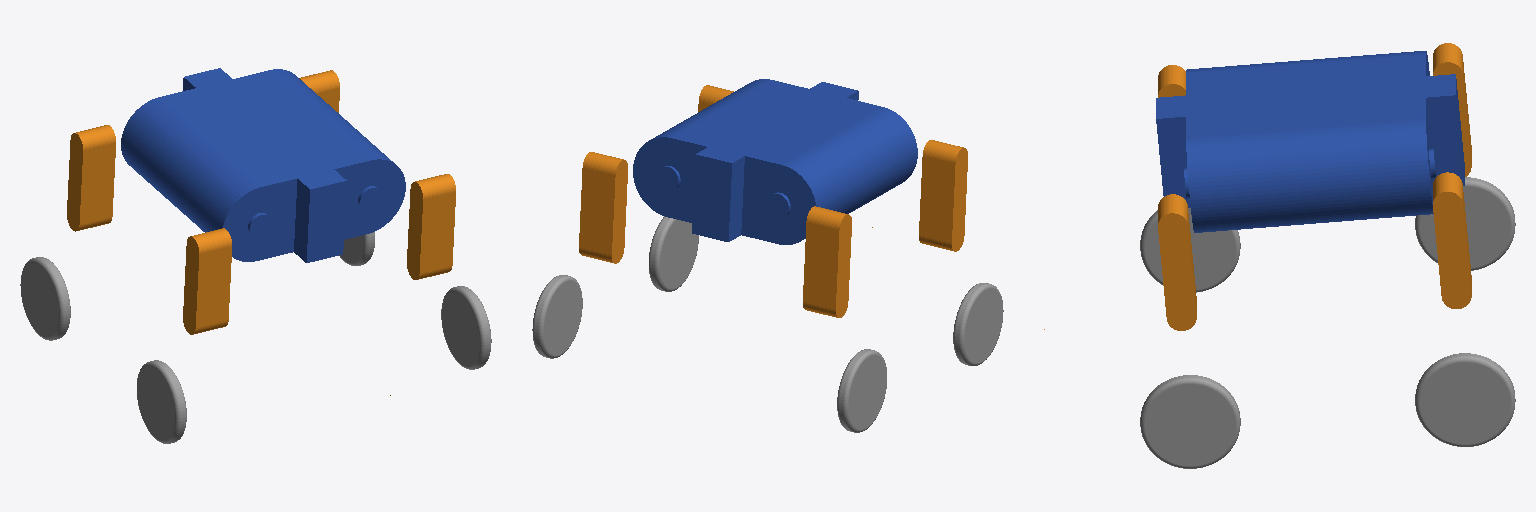
--- Render facts (derived) ---
The picture shows the robot from 3 angles, left to right: view 1: azimuth 30°, elevation 25°; view 2: azimuth 150°, elevation 25°; view 3: azimuth 270°, elevation 25°; orthographic projection.
Model wheely with 18 links and 17 joints (16 revolute, 1 fixed), rooted at base, posed every joint at zero.
Visible links, largest first — view 1: trunk, leg_upper_sim_4, leg_upper_sim_2, leg_upper_sim, wheel_sim_2, wheel_sim, wheel_sim_4, leg_upper_sim_3, wheel_sim_3; view 2: trunk, leg_upper_sim_4, leg_upper_sim_3, leg_upper_sim, wheel_sim_3, wheel_sim_4, wheel_sim, wheel_sim_2; view 3: trunk, wheel_sim_2, wheel_sim_3, wheel_sim_4, leg_upper_sim_2, leg_upper_sim_3, wheel_sim, leg_upper_sim_4, leg_upper_sim.
Link boxes in pixels (x1,y1,x2,y2): trunk: [121, 68, 405, 262]; leg_upper_sim_4: [67, 125, 115, 231]; leg_upper_sim_2: [407, 174, 455, 279]; leg_upper_sim: [183, 228, 231, 334]; wheel_sim_2: [441, 286, 491, 369]; wheel_sim: [137, 360, 186, 443]; wheel_sim_4: [20, 257, 70, 340]; leg_upper_sim_3: [299, 70, 339, 112]; wheel_sim_3: [339, 232, 374, 265]; trunk: [633, 79, 917, 244]; leg_upper_sim_4: [803, 206, 851, 317]; leg_upper_sim_3: [579, 152, 627, 263]; leg_upper_sim: [919, 140, 967, 251]; wheel_sim_3: [532, 275, 582, 358]; wheel_sim_4: [837, 349, 886, 432]; wheel_sim: [953, 283, 1003, 365]; wheel_sim_2: [649, 216, 698, 291]; trunk: [1156, 51, 1464, 232]; wheel_sim_2: [1140, 375, 1240, 468]; wheel_sim_3: [1415, 353, 1515, 446]; wheel_sim_4: [1415, 177, 1515, 270]; leg_upper_sim_2: [1158, 194, 1196, 330]; leg_upper_sim_3: [1433, 172, 1471, 308]; wheel_sim: [1140, 208, 1240, 292]; leg_upper_sim_4: [1433, 43, 1471, 176]; leg_upper_sim: [1158, 65, 1185, 97].
Size in the robot's own frame: 0.43 by 0.4694 by 0.3241 metres.
9 mesh visuals loaded from 5 distinct referenced files (3 binary STL); not drawn: 8 (reference not matched to a file when rendering).

robot.urdf — wheely:
<?xml version="1.0" encoding="utf-8"?>
<robot name="wheely">
    <link name="base">
        <visual>
            <origin rpy="0 0 0" xyz="0 0 0" />
            <geometry>
                <box size="0.001 0.001 0.001" />
            </geometry>
        </visual>
    </link>
    <joint name="floating_base" type="fixed">
        <origin rpy="0 0 0" xyz="0 0 0" />
        <parent link="base" />
        <child link="trunk" />
    </joint>
    <link name="trunk">
        <visual>
            <origin xyz="-0.0208706 0.268832 0.147105" rpy="0.0872665 -1.27202e-15 -1.44076e-15" />
            <geometry>
                <mesh filename="../meshes/V3.5/main_body_sim.stl" />
            </geometry>
            <material name="main_body_sim_material">
                <color rgba="0.231373 0.380392 0.705882 1.0" />
            </material>
        </visual>
        <collision>
            <origin xyz="-0.0208706 0.268832 0.147105" rpy="0.0872665 -1.27202e-15 -1.44076e-15" />
            <geometry>
                <mesh filename="../meshes/V3.5/main_body_sim.stl" />
            </geometry>
            <material name="main_body_sim_material">
                <color rgba="0.231373 0.380392 0.705882 1.0" />
            </material>
        </collision>
        <inertial>
            <origin xyz="-0.0208706 0.264475 0.196915" rpy="0 0 0" />
            <mass value="6.10065" />
            <inertia ixx="0.0383547" ixy="1.34683e-17" ixz="2.60161e-17" iyy="0.0308366"
                iyz="0.00252105" izz="0.0594318" />
        </inertial>
    </link>

    <link name="hip_joint_sim">
        <visual>
            <origin xyz="0.0322156 0.0285551 -2.77556e-17" rpy="1.5708 -9.43355e-32 -1.87632e-32" />
            <geometry>
                <mesh filename="../meshes/V3.5/hip_joint_sim.stl" />
            </geometry>
            <material name="hip_joint_sim_material">
                <color rgba="0.866667 0.321569 0.156863 1.0" />
            </material>
        </visual>
        <collision>
            <origin xyz="0.0322156 0.0285551 -2.77556e-17" rpy="1.5708 -9.43355e-32 -1.87632e-32" />
            <geometry>
                <mesh filename="../meshes/V3.5/hip_joint_sim.stl" />
            </geometry>
            <material name="hip_joint_sim_material">
                <color rgba="0.866667 0.321569 0.156863 1.0" />
            </material>
        </collision>
        <inertial>
            <origin xyz="0.0215256 -2.08167e-17 -0.0125" rpy="0 0 0" />
            <mass value="0.0526902" />
            <inertia ixx="6.52176e-06" ixy="3.01327e-36" ixz="4.22457e-37" iyy="2.26097e-05"
                iyz="-9.35962e-23" izz="2.36429e-05" />
        </inertial>
    </link>

    <link name="leg_upper_sim">
        <visual>
            <origin xyz="0 -2.77556e-17 -0.045" rpy="-1.5708 -1.5708 0" />
            <geometry>
                <mesh filename="../meshes/V3.5/leg_upper_sim.stl" />
            </geometry>
            <material name="leg_upper_sim_material">
                <color rgba="0.909804 0.572549 0.164706 1.0" />
            </material>
        </visual>
        <collision>
            <origin xyz="0 -2.77556e-17 -0.045" rpy="-1.5708 -1.5708 0" />
            <geometry>
                <mesh filename="../meshes/V3.5/leg_upper_sim.stl" />
            </geometry>
            <material name="leg_upper_sim_material">
                <color rgba="0.909804 0.572549 0.164706 1.0" />
            </material>
        </collision>
        <inertial>
            <origin xyz="4.31094e-18 -0.05 -0.0225" rpy="0 0 0" />
            <mass value="0.175483" />
            <inertia ixx="4.21465e-05" ixy="-4.02785e-37" ixz="-2.46405e-36" iyy="0.000237726"
                iyz="6.87093e-21" izz="0.000254805" />
        </inertial>
    </link>

    <link name="leg_lower_sim">
        <visual>
            <origin xyz="0 1.38778e-17 -0.025" rpy="-1.5708 -1.5708 0" />
            <geometry>
                <mesh filename="../meshes/V3.5/leg_lower_sim.stl" />
            </geometry>
            <material name="leg_lower_sim_material">
                <color rgba="1 0.756863 0.054902 1.0" />
            </material>
        </visual>
        <collision>
            <origin xyz="0 1.38778e-17 -0.025" rpy="-1.5708 -1.5708 0" />
            <geometry>
                <mesh filename="../meshes/V3.5/leg_lower_sim.stl" />
            </geometry>
            <material name="leg_lower_sim_material">
                <color rgba="1 0.756863 0.054902 1.0" />
            </material>
        </collision>
        <inertial>
            <origin xyz="4.19516e-18 -0.0611369 -0.0125" rpy="0 0 0" />
            <mass value="0.144211" />
            <inertia ixx="2.31972e-05" ixy="-8.02744e-36" ixz="-2.4292e-36" iyy="0.000241043"
                iyz="4.50043e-21" izz="0.000232868" />
        </inertial>
    </link>

    <link name="wheel_sim">
        <visual>
            <origin xyz="-0.0870872 -0.0270469 -0.015" rpy="-1.5708 -1.5708 0" />
            <geometry>
                <mesh filename="../meshes/V3.5/wheel_sim.stl" />
            </geometry>
            <material name="wheel_sim_material">
                <color rgba="0.647059 0.647059 0.647059 1.0" />
            </material>
        </visual>
        <collision>
            <origin xyz="-0.0870872 -0.0270469 -0.015" rpy="-1.5708 -1.5708 0" />
            <geometry>
                <mesh filename="../meshes/V3.5/wheel_sim.stl" />
            </geometry>
            <material name="wheel_sim_material">
                <color rgba="0.647059 0.647059 0.647059 1.0" />
            </material>
        </collision>
        <inertial>
            <origin xyz="4.22027e-19 3.46945e-18 -0.0075" rpy="0 0 0" />
            <mass value="0.143143" />
            <inertia ixx="8.97017e-05" ixy="2.52809e-37" ixz="-1.2455e-35" iyy="0.000174223"
                iyz="1.88165e-21" izz="8.97017e-05" />
        </inertial>
    </link>

    <joint name="FRW joint" type="revolute">
        <origin xyz="0 -0.1 -0.025" rpy="-1.04355e-16 -2.07053e-16 -1.5708" />
        <parent link="leg_lower_sim" />
        <child link="wheel_sim" />
        <axis xyz="0 0 1" />
        <limit effort="3.43" velocity="1.5707"/>
        <joint_properties friction="0.0" />
    </joint>

    <joint name="FRK joint" type="revolute">
        <origin xyz="2.77556e-17 -0.1 -0.045" rpy="1.45042e-31 -4.52067e-31 5.79161e-18" />
        <parent link="leg_upper_sim" />
        <child link="leg_lower_sim" />
        <axis xyz="0 0 1" />
        <limit effort="6.864655" velocity="8.055365759832842" lower="-1.5708" upper="1.5708" />
        <joint_properties friction="0.0" />
    </joint>

    <joint name="FRHL joint" type="revolute">
        <origin xyz="0.055 -2.77556e-17 -0.0125" rpy="-1.66018e-31 -1.5708 0" />
        <parent link="hip_joint_sim" />
        <child link="leg_upper_sim" />
        <axis xyz="0 0 1" />
        <limit effort="6.864655" velocity="8.055365759832842" lower="-1.5708" upper="1.5708" />
        <joint_properties friction="0.0" />
    </joint>

    <joint name="FRHU joint" type="revolute">
        <origin xyz="-0.0958706 0.13995 0.18602" rpy="1.48353 -1.44328e-16 3.14159" />
        <parent link="trunk" />
        <child link="hip_joint_sim" />
        <axis xyz="0 0 1" />
        <limit effort="6.864655" velocity="8.055365759832842" lower="-1.5708" upper="1.5708" />
        <joint_properties friction="0.0" />
    </joint>

    <link name="hip_joint_sim_2">
        <visual>
            <origin xyz="0.0322156 0.0285551 0" rpy="1.5708 1.02332e-31 1.77085e-31" />
            <geometry>
                <mesh filename="../meshes/V3.5/hip_joint_sim.stl" />
            </geometry>
            <material name="hip_joint_sim_material">
                <color rgba="0.866667 0.321569 0.156863 1.0" />
            </material>
        </visual>
        <collision>
            <origin xyz="0.0322156 0.0285551 0" rpy="1.5708 1.02332e-31 1.77085e-31" />
            <geometry>
                <mesh filename="../meshes/V3.5/hip_joint_sim.stl" />
            </geometry>
            <material name="hip_joint_sim_material">
                <color rgba="0.866667 0.321569 0.156863 1.0" />
            </material>
        </collision>
        <inertial>
            <origin xyz="0.0215256 -1.73472e-17 -0.0125" rpy="0 0 0" />
            <mass value="0.0526902" />
            <inertia ixx="6.52176e-06" ixy="-1.30992e-36" ixz="-5.35149e-36" iyy="2.26097e-05"
                iyz="1.96673e-22" izz="2.36429e-05" />
        </inertial>
    </link>

    <link name="leg_upper_sim_2">
        <visual>
            <origin xyz="-2.77556e-17 0 1.38778e-17" rpy="1.5708 1.5708 0" />
            <geometry>
                <mesh filename="../meshes/V3.5/leg_upper_sim.stl" />
            </geometry>
            <material name="leg_upper_sim_material">
                <color rgba="0.909804 0.572549 0.164706 1.0" />
            </material>
        </visual>
        <collision>
            <origin xyz="-2.77556e-17 0 1.38778e-17" rpy="1.5708 1.5708 0" />
            <geometry>
                <mesh filename="../meshes/V3.5/leg_upper_sim.stl" />
            </geometry>
            <material name="leg_upper_sim_material">
                <color rgba="0.909804 0.572549 0.164706 1.0" />
            </material>
        </collision>
        <inertial>
            <origin xyz="-2.30008e-17 0.05 -0.0225" rpy="0 0 0" />
            <mass value="0.175483" />
            <inertia ixx="4.21465e-05" ixy="2.05961e-35" ixz="-6.06733e-35" iyy="0.000237726"
                iyz="8.32469e-22" izz="0.000254805" />
        </inertial>
    </link>

    <link name="leg_lower_sim_2">
        <visual>
            <origin xyz="0 0 -2.77556e-17" rpy="1.5708 1.5708 0" />
            <geometry>
                <mesh filename="../meshes/V3.5/leg_lower_sim.stl" />
            </geometry>
            <material name="leg_lower_sim_material">
                <color rgba="1 0.756863 0.054902 1.0" />
            </material>
        </visual>
        <collision>
            <origin xyz="0 0 -2.77556e-17" rpy="1.5708 1.5708 0" />
            <geometry>
                <mesh filename="../meshes/V3.5/leg_lower_sim.stl" />
            </geometry>
            <material name="leg_lower_sim_material">
                <color rgba="1 0.756863 0.054902 1.0" />
            </material>
        </collision>
        <inertial>
            <origin xyz="5.41522e-18 0.0611369 -0.0125" rpy="0 0 0" />
            <mass value="0.144211" />
            <inertia ixx="2.31972e-05" ixy="9.23081e-36" ixz="-7.29805e-35" iyy="0.000241043"
                iyz="-4.55156e-21" izz="0.000232868" />
        </inertial>
    </link>

    <link name="wheel_sim_2">
        <visual>
            <origin xyz="-0.0870872 0.0270469 2.77556e-17" rpy="1.5708 1.5708 0" />
            <geometry>
                <mesh filename="../meshes/V3.5/wheel_sim.stl" />
            </geometry>
            <material name="wheel_sim_material">
                <color rgba="0.647059 0.647059 0.647059 1.0" />
            </material>
        </visual>
        <collision>
            <origin xyz="-0.0870872 0.0270469 2.77556e-17" rpy="1.5708 1.5708 0" />
            <geometry>
                <mesh filename="../meshes/V3.5/wheel_sim.stl" />
            </geometry>
            <material name="wheel_sim_material">
                <color rgba="0.647059 0.647059 0.647059 1.0" />
            </material>
        </collision>
        <inertial>
            <origin xyz="-1.3692e-17 3.81639e-17 -0.0075" rpy="0 0 0" />
            <mass value="0.143143" />
            <inertia ixx="8.97017e-05" ixy="6.73069e-35" ixz="-2.71542e-35" iyy="0.000174223"
                iyz="2.72043e-21" izz="8.97017e-05" />
        </inertial>
    </link>

    <joint name="FLW joint" type="revolute">
        <origin xyz="0 0.1 -0.025" rpy="-2.90627e-16 1.44978e-15 -0.648377" />
        <parent link="leg_lower_sim_2" />
        <child link="wheel_sim_2" />
        <axis xyz="0 0 1" />
        <limit effort="3.43" velocity="1.5707"/>
        <joint_properties friction="0.0" />
    </joint>

    <joint name="FLK joint" type="revolute">
        <origin xyz="0 0.1 -0.045" rpy="6.24142e-30 -3.58295e-30 -3.61844e-18" />
        <parent link="leg_upper_sim_2" />
        <child link="leg_lower_sim_2" />
        <axis xyz="0 0 1" />
        <limit effort="6.864655" velocity="8.055365759832842" lower="-1.5708" upper="1.5708" />
        <joint_properties friction="0.0" />
    </joint>

    <joint name="FLHL joint" type="revolute">
        <origin xyz="0.055 -2.77556e-17 -0.0125" rpy="1.77085e-31 -1.5708 0" />
        <parent link="hip_joint_sim_2" />
        <child link="leg_upper_sim_2" />
        <axis xyz="0 0 1" />
        <limit effort="6.864655" velocity="8.055365759832842" lower="-1.5708" upper="1.5708" />
        <joint_properties friction="0.0" />
    </joint>

    <joint name="FLHU joint" type="revolute">
        <origin xyz="0.0541294 0.13995 0.18602" rpy="-1.48353 -1.83779e-15 -1.49026e-15" />
        <parent link="trunk" />
        <child link="hip_joint_sim_2" />
        <axis xyz="0 0 1" />
        <limit effort="6.864655" velocity="8.055365759832842" lower="-1.5708" upper="1.5708" />
        <joint_properties friction="0.0" />
    </joint>

    <link name="hip_joint_sim_3">
        <visual>
            <origin xyz="0.0322156 -0.0285551 -0.025" rpy="-1.5708 -1.09006e-33 7.02177e-32" />
            <geometry>
                <mesh filename="../meshes/V3.5/hip_joint_sim.stl" />
            </geometry>
            <material name="hip_joint_sim_material">
                <color rgba="0.866667 0.321569 0.156863 1.0" />
            </material>
        </visual>
        <collision>
            <origin xyz="0.0322156 -0.0285551 -0.025" rpy="-1.5708 -1.09006e-33 7.02177e-32" />
            <geometry>
                <mesh filename="../meshes/V3.5/hip_joint_sim.stl" />
            </geometry>
            <material name="hip_joint_sim_material">
                <color rgba="0.866667 0.321569 0.156863 1.0" />
            </material>
        </collision>
        <inertial>
            <origin xyz="0.0215256 0 -0.0125" rpy="0 0 0" />
            <mass value="0.0526902" />
            <inertia ixx="6.52176e-06" ixy="6.47138e-37" ixz="3.94613e-36" iyy="2.26097e-05"
                iyz="6.51178e-22" izz="2.36429e-05" />
        </inertial>
    </link>

    <link name="leg_upper_sim_3">
        <visual>
            <origin xyz="0 2.77556e-17 0" rpy="1.5708 1.5708 0" />
            <geometry>
                <mesh filename="../meshes/V3.5/leg_upper_sim.stl" />
            </geometry>
            <material name="leg_upper_sim_material">
                <color rgba="0.909804 0.572549 0.164706 1.0" />
            </material>
        </visual>
        <collision>
            <origin xyz="0 2.77556e-17 0" rpy="1.5708 1.5708 0" />
            <geometry>
                <mesh filename="../meshes/V3.5/leg_upper_sim.stl" />
            </geometry>
            <material name="leg_upper_sim_material">
                <color rgba="0.909804 0.572549 0.164706 1.0" />
            </material>
        </collision>
        <inertial>
            <origin xyz="5.24911e-18 0.05 -0.0225" rpy="0 0 0" />
            <mass value="0.175483" />
            <inertia ixx="4.21465e-05" ixy="2.77673e-36" ixz="4.18467e-35" iyy="0.000237726"
                iyz="1.96426e-21" izz="0.000254805" />
        </inertial>
    </link>

    <link name="leg_lower_sim_3">
        <visual>
            <origin xyz="-5.55112e-17 0 0" rpy="1.5708 1.5708 0" />
            <geometry>
                <mesh filename="../meshes/V3.5/leg_lower_sim.stl" />
            </geometry>
            <material name="leg_lower_sim_material">
                <color rgba="1 0.756863 0.054902 1.0" />
            </material>
        </visual>
        <collision>
            <origin xyz="-5.55112e-17 0 0" rpy="1.5708 1.5708 0" />
            <geometry>
                <mesh filename="../meshes/V3.5/leg_lower_sim.stl" />
            </geometry>
            <material name="leg_lower_sim_material">
                <color rgba="1 0.756863 0.054902 1.0" />
            </material>
        </collision>
        <inertial>
            <origin xyz="-5.05943e-17 0.0611369 -0.0125" rpy="0 0 0" />
            <mass value="0.144211" />
            <inertia ixx="2.31972e-05" ixy="1.20033e-35" ixz="5.21899e-35" iyy="0.000241043"
                iyz="1.89239e-21" izz="0.000232868" />
        </inertial>
    </link>

    <link name="wheel_sim_3">
        <visual>
            <origin xyz="-0.0870872 0.0270469 0" rpy="1.5708 1.5708 0" />
            <geometry>
                <mesh filename="../meshes/V3.5/wheel_sim.stl" />
            </geometry>
            <material name="wheel_sim_material">
                <color rgba="0.647059 0.647059 0.647059 1.0" />
            </material>
        </visual>
        <collision>
            <origin xyz="-0.0870872 0.0270469 0" rpy="1.5708 1.5708 0" />
            <geometry>
                <mesh filename="../meshes/V3.5/wheel_sim.stl" />
            </geometry>
            <material name="wheel_sim_material">
                <color rgba="0.647059 0.647059 0.647059 1.0" />
            </material>
        </collision>
        <inertial>
            <origin xyz="0 -3.46945e-18 -0.0075" rpy="0 0 0" />
            <mass value="0.143143" />
            <inertia ixx="8.97017e-05" ixy="0" ixz="-3.47309e-37" iyy="0.000174223" iyz="0"
                izz="8.97017e-05" />
        </inertial>
    </link>

    <joint name="BLW joint" type="revolute">
        <origin xyz="-5.55112e-17 0.1 -0.025" rpy="3.57465e-16 -9.14164e-16 -1.48353" />
        <parent link="leg_lower_sim_3" />
        <child link="wheel_sim_3" />
        <axis xyz="0 0 1" />
        <limit effort="3.43" velocity="1.5707"/>
        <joint_properties friction="0.0" />
    </joint>

    <joint name="BLK joint" type="revolute">
        <origin xyz="0 0.1 -0.045" rpy="-6.39842e-31 -5.9677e-31 9.9953e-18" />
        <parent link="leg_upper_sim_3" />
        <child link="leg_lower_sim_3" />
        <axis xyz="0 0 1" />
        <limit effort="6.864655" velocity="8.055365759832842" lower="-1.5708" upper="1.5708" />
        <joint_properties friction="0.0" />
    </joint>

    <joint name="BLHL joint" type="revolute">
        <origin xyz="0.055 -1.11022e-16 -0.0125" rpy="3.14159 1.5708 0" />
        <parent link="hip_joint_sim_3" />
        <child link="leg_upper_sim_3" />
        <axis xyz="0 0 1" />
        <limit effort="6.864655" velocity="8.055365759832842" lower="-1.5708" upper="1.5708" />
        <joint_properties friction="0.0" />
    </joint>

    <joint name="BLHU joint" type="revolute">
        <origin xyz="0.0541294 0.388999 0.207809" rpy="1.65806 -2.55381e-15 -4.95659e-16" />
        <parent link="trunk" />
        <child link="hip_joint_sim_3" />
        <axis xyz="0 0 1" />
        <limit effort="6.864655" velocity="8.055365759832842" lower="-1.5708" upper="1.5708" />
        <joint_properties friction="0.0" />
    </joint>

    <link name="hip_joint_sim_4">
        <visual>
            <origin xyz="0.0322156 -0.0285551 -0.025" rpy="-1.5708 1.19351e-32 6.36656e-32" />
            <geometry>
                <mesh filename="../meshes/V3.5/hip_joint_sim.stl" />
            </geometry>
            <material name="hip_joint_sim_material">
                <color rgba="0.866667 0.321569 0.156863 1.0" />
            </material>
        </visual>
        <collision>
            <origin xyz="0.0322156 -0.0285551 -0.025" rpy="-1.5708 1.19351e-32 6.36656e-32" />
            <geometry>
                <mesh filename="../meshes/V3.5/hip_joint_sim.stl" />
            </geometry>
            <material name="hip_joint_sim_material">
                <color rgba="0.866667 0.321569 0.156863 1.0" />
            </material>
        </collision>
        <inertial>
            <origin xyz="0.0215256 -6.93889e-18 -0.0125" rpy="0 0 0" />
            <mass value="0.0526902" />
            <inertia ixx="6.52176e-06" ixy="-4.35532e-37" ixz="1.6252e-36" iyy="2.26097e-05"
                iyz="-4.30332e-22" izz="2.36429e-05" />
        </inertial>
    </link>

    <link name="leg_upper_sim_4">
        <visual>
            <origin xyz="0 -2.77556e-17 -0.045" rpy="-1.5708 -1.5708 0" />
            <geometry>
                <mesh filename="../meshes/V3.5/leg_upper_sim.stl" />
            </geometry>
            <material name="leg_upper_sim_material">
                <color rgba="0.909804 0.572549 0.164706 1.0" />
            </material>
        </visual>
        <collision>
            <origin xyz="0 -2.77556e-17 -0.045" rpy="-1.5708 -1.5708 0" />
            <geometry>
                <mesh filename="../meshes/V3.5/leg_upper_sim.stl" />
            </geometry>
            <material name="leg_upper_sim_material">
                <color rgba="0.909804 0.572549 0.164706 1.0" />
            </material>
        </collision>
        <inertial>
            <origin xyz="5.57545e-18 -0.05 -0.0225" rpy="0 0 0" />
            <mass value="0.175483" />
            <inertia ixx="4.21465e-05" ixy="-3.25357e-36" ixz="9.15552e-36" iyy="0.000237726"
                iyz="-2.34258e-21" izz="0.000254805" />
        </inertial>
    </link>

    <link name="leg_lower_sim_4">
        <visual>
            <origin xyz="0 -1.38778e-17 -0.025" rpy="-1.5708 -1.5708 0" />
            <geometry>
                <mesh filename="../meshes/V3.5/leg_lower_sim.stl" />
            </geometry>
            <material name="leg_lower_sim_material">
                <color rgba="1 0.756863 0.054902 1.0" />
            </material>
        </visual>
        <collision>
            <origin xyz="0 -1.38778e-17 -0.025" rpy="-1.5708 -1.5708 0" />
            <geometry>
                <mesh filename="../meshes/V3.5/leg_lower_sim.stl" />
            </geometry>
            <material name="leg_lower_sim_material">
                <color rgba="1 0.756863 0.054902 1.0" />
            </material>
        </collision>
        <inertial>
            <origin xyz="6.13826e-18 -0.0611369 -0.0125" rpy="0 0 0" />
            <mass value="0.144211" />
            <inertia ixx="2.31972e-05" ixy="-2.18992e-35" ixz="1.51026e-35" iyy="0.000241043"
                iyz="-7.80615e-21" izz="0.000232868" />
        </inertial>
    </link>

    <link name="wheel_sim_4">
        <visual>
            <origin xyz="-0.0870872 -0.0270469 -0.015" rpy="-1.5708 -1.5708 0" />
            <geometry>
                <mesh filename="../meshes/V3.5/wheel_sim.stl" />
            </geometry>
            <material name="wheel_sim_material">
                <color rgba="0.647059 0.647059 0.647059 1.0" />
            </material>
        </visual>
        <collision>
            <origin xyz="-0.0870872 -0.0270469 -0.015" rpy="-1.5708 -1.5708 0" />
            <geometry>
                <mesh filename="../meshes/V3.5/wheel_sim.stl" />
            </geometry>
            <material name="wheel_sim_material">
                <color rgba="0.647059 0.647059 0.647059 1.0" />
            </material>
        </collision>
        <inertial>
            <origin xyz="2.20671e-20 -1.04083e-17 -0.0075" rpy="0 0 0" />
            <mass value="0.143143" />
            <inertia ixx="8.97017e-05" ixy="-8.92403e-36" ixz="3.63926e-38" iyy="0.000174223"
                iyz="8.44064e-22" izz="8.97017e-05" />
        </inertial>
    </link>

    <joint name="BRW joint" type="revolute">
        <origin xyz="0 -0.1 -0.025" rpy="2.77467e-28 4.11514e-28 1.14545e-08" />
        <parent link="leg_lower_sim_4" />
        <child link="wheel_sim_4" />
        <axis xyz="0 0 1" />
        <limit effort="3.43" velocity="1.5707"/>
        <joint_properties friction="0.0" />
    </joint>

    <joint name="BRK joint" type="revolute">
        <origin xyz="0 -0.1 -0.045" rpy="-6.20893e-28 -4.7762e-28 -8.29287e-18" />
        <parent link="leg_upper_sim_4" />
        <child link="leg_lower_sim_4" />
        <axis xyz="0 0 1" />
        <limit effort="6.864655" velocity="8.055365759832842" lower="-1.5708" upper="1.5708" />
        <joint_properties friction="0.0" />
    </joint>

    <joint name="BRHL joint" type="revolute">
        <origin xyz="0.055 2.77556e-17 -0.0125" rpy="3.14159 1.5708 0" />
        <parent link="hip_joint_sim_4" />
        <child link="leg_upper_sim_4" />
        <axis xyz="0 0 1" />
        <limit effort="6.864655" velocity="8.055365759832842" lower="-1.5708" upper="1.5708" />
        <joint_properties friction="0.0" />
    </joint>

    <joint name="BRHU joint" type="revolute">
        <origin xyz="-0.0958706 0.388999 0.207809" rpy="-1.65806 3.99325e-16 3.14159" />
        <parent link="trunk" />
        <child link="hip_joint_sim_4" />
        <axis xyz="0 0 1" />
        <limit effort="6.864655" velocity="8.055365759832842" lower="-1.5708" upper="1.5708" />
        <joint_properties friction="0.0" />
    </joint>


</robot>
